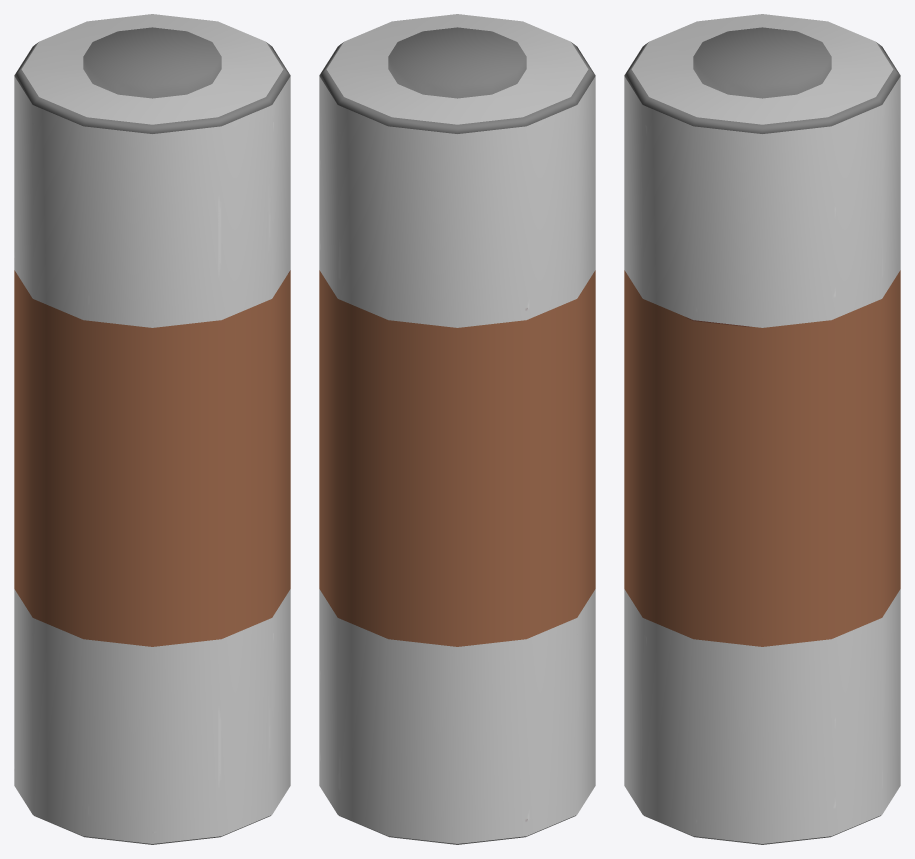
File: Battery.fbx
3 renders of one model, left to right at view 1: azimuth 30°, elevation 25°; view 2: azimuth 150°, elevation 25°; view 3: azimuth 270°, elevation 25°, orthographic.
Visible parts, largest first — view 1: pCylinder2; view 2: pCylinder2; view 3: pCylinder2.
Boxes of the visible parts, <box> form: pCylinder2: <box>14,14,290,844</box>; pCylinder2: <box>319,14,595,844</box>; pCylinder2: <box>624,14,900,844</box>.
Size of the model in its own units: 0.1332 by 0.3903 by 0.1332.
